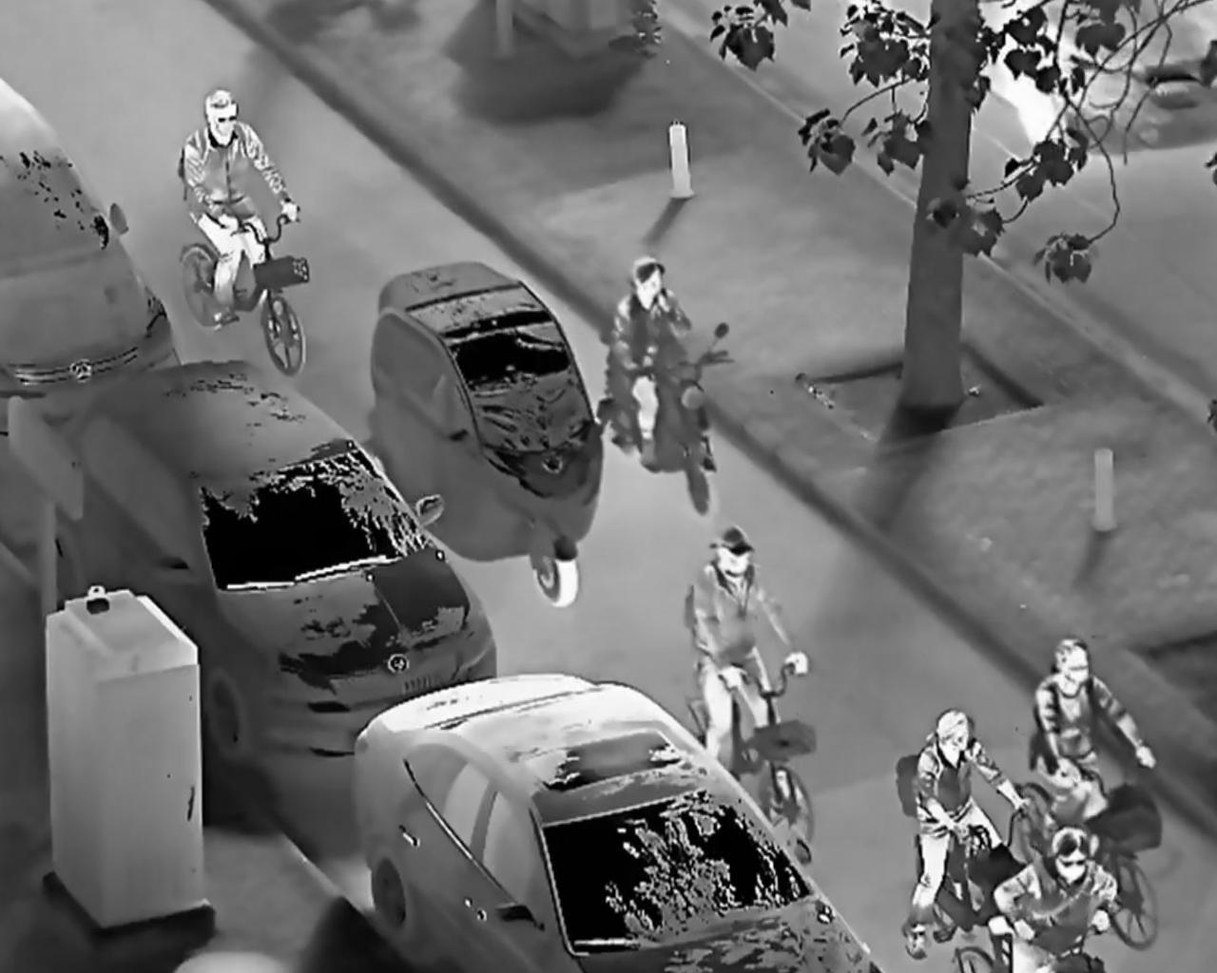person: (689, 523, 814, 810), (896, 710, 1033, 964), (179, 85, 304, 331), (1032, 633, 1160, 829), (601, 254, 700, 471), (991, 828, 1120, 973)
